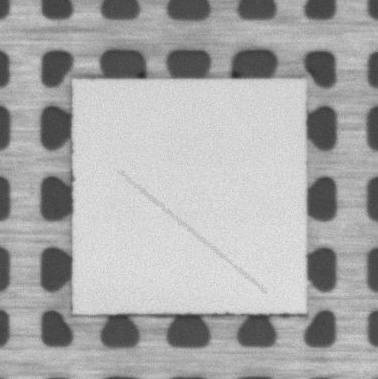DIE_CRACK: (119, 171, 265, 293)
